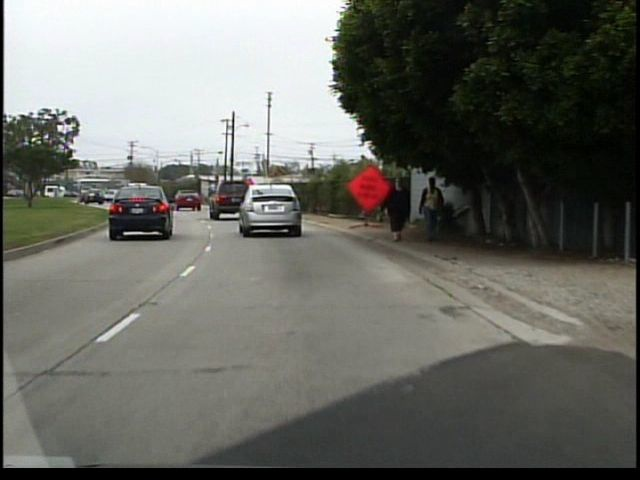person: (375, 172, 414, 249), (415, 176, 445, 246)
